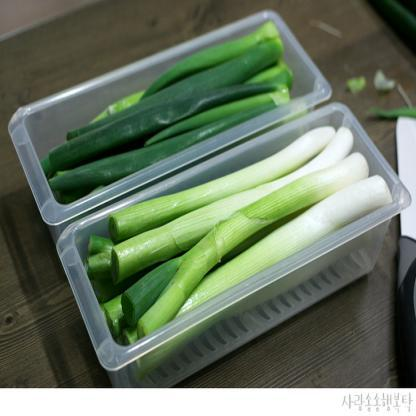green onion: (81, 121, 374, 345), (43, 28, 278, 191)
